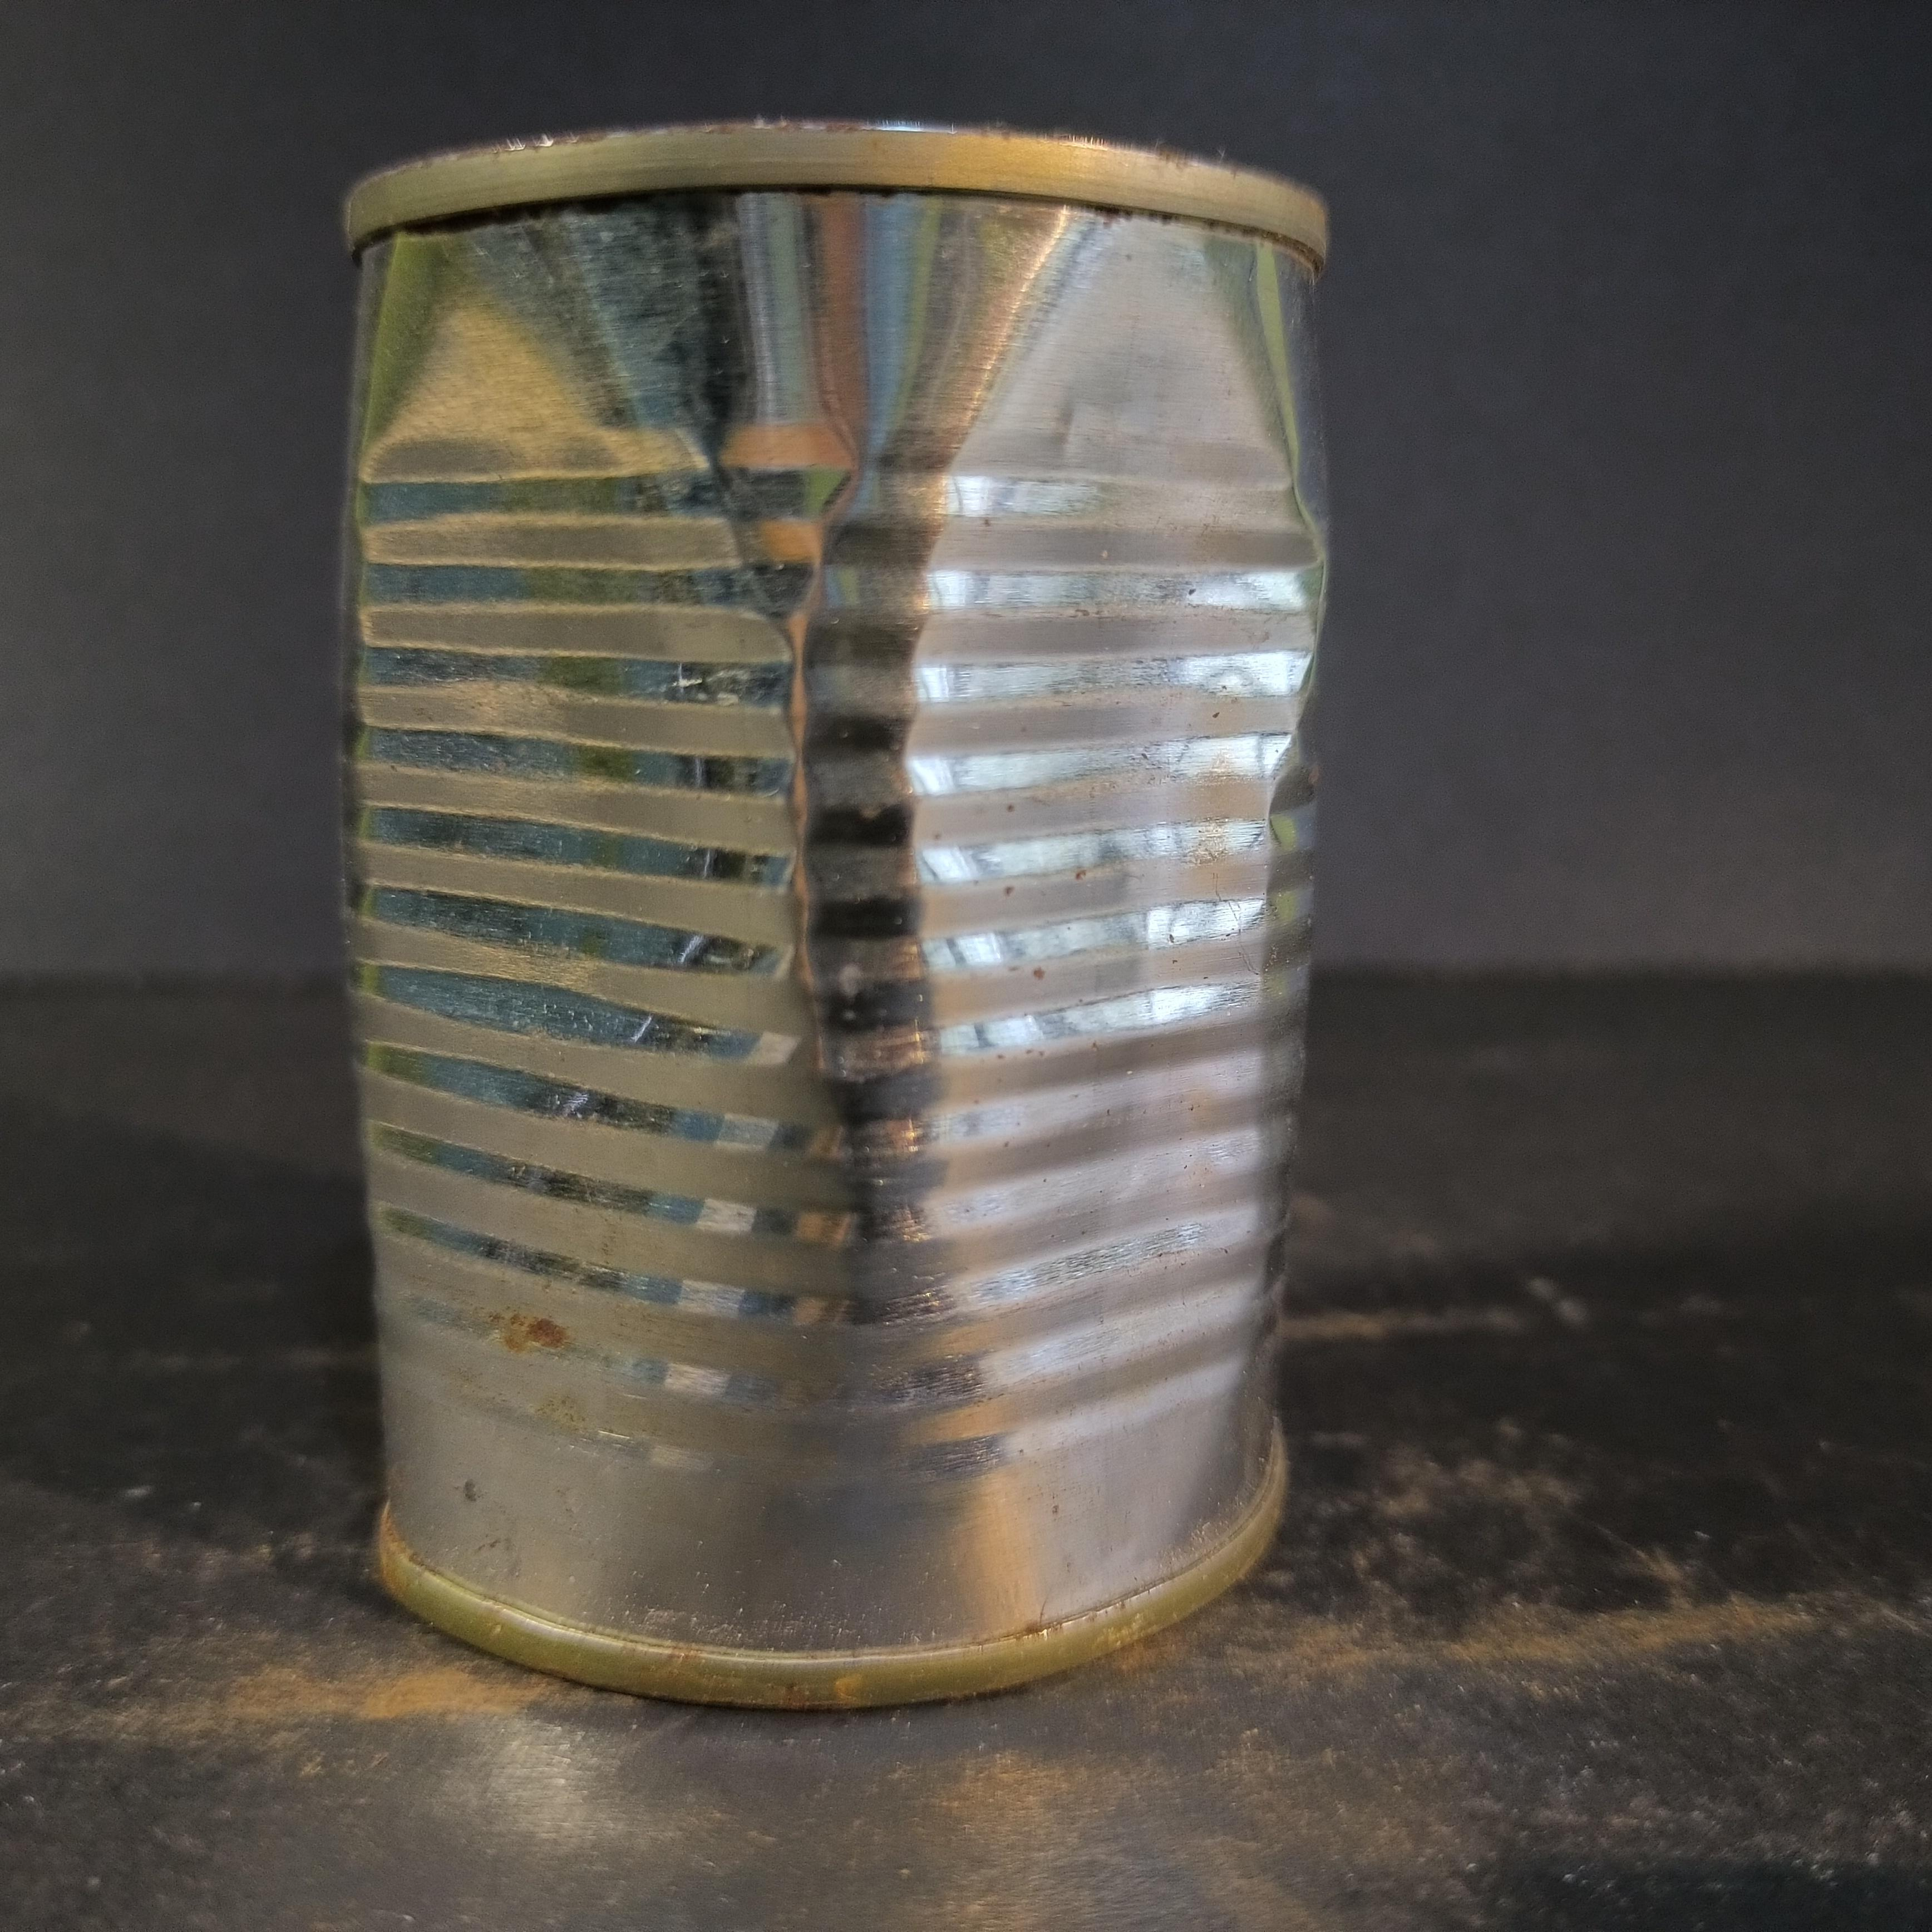Dented: (329, 92, 1371, 1702)
